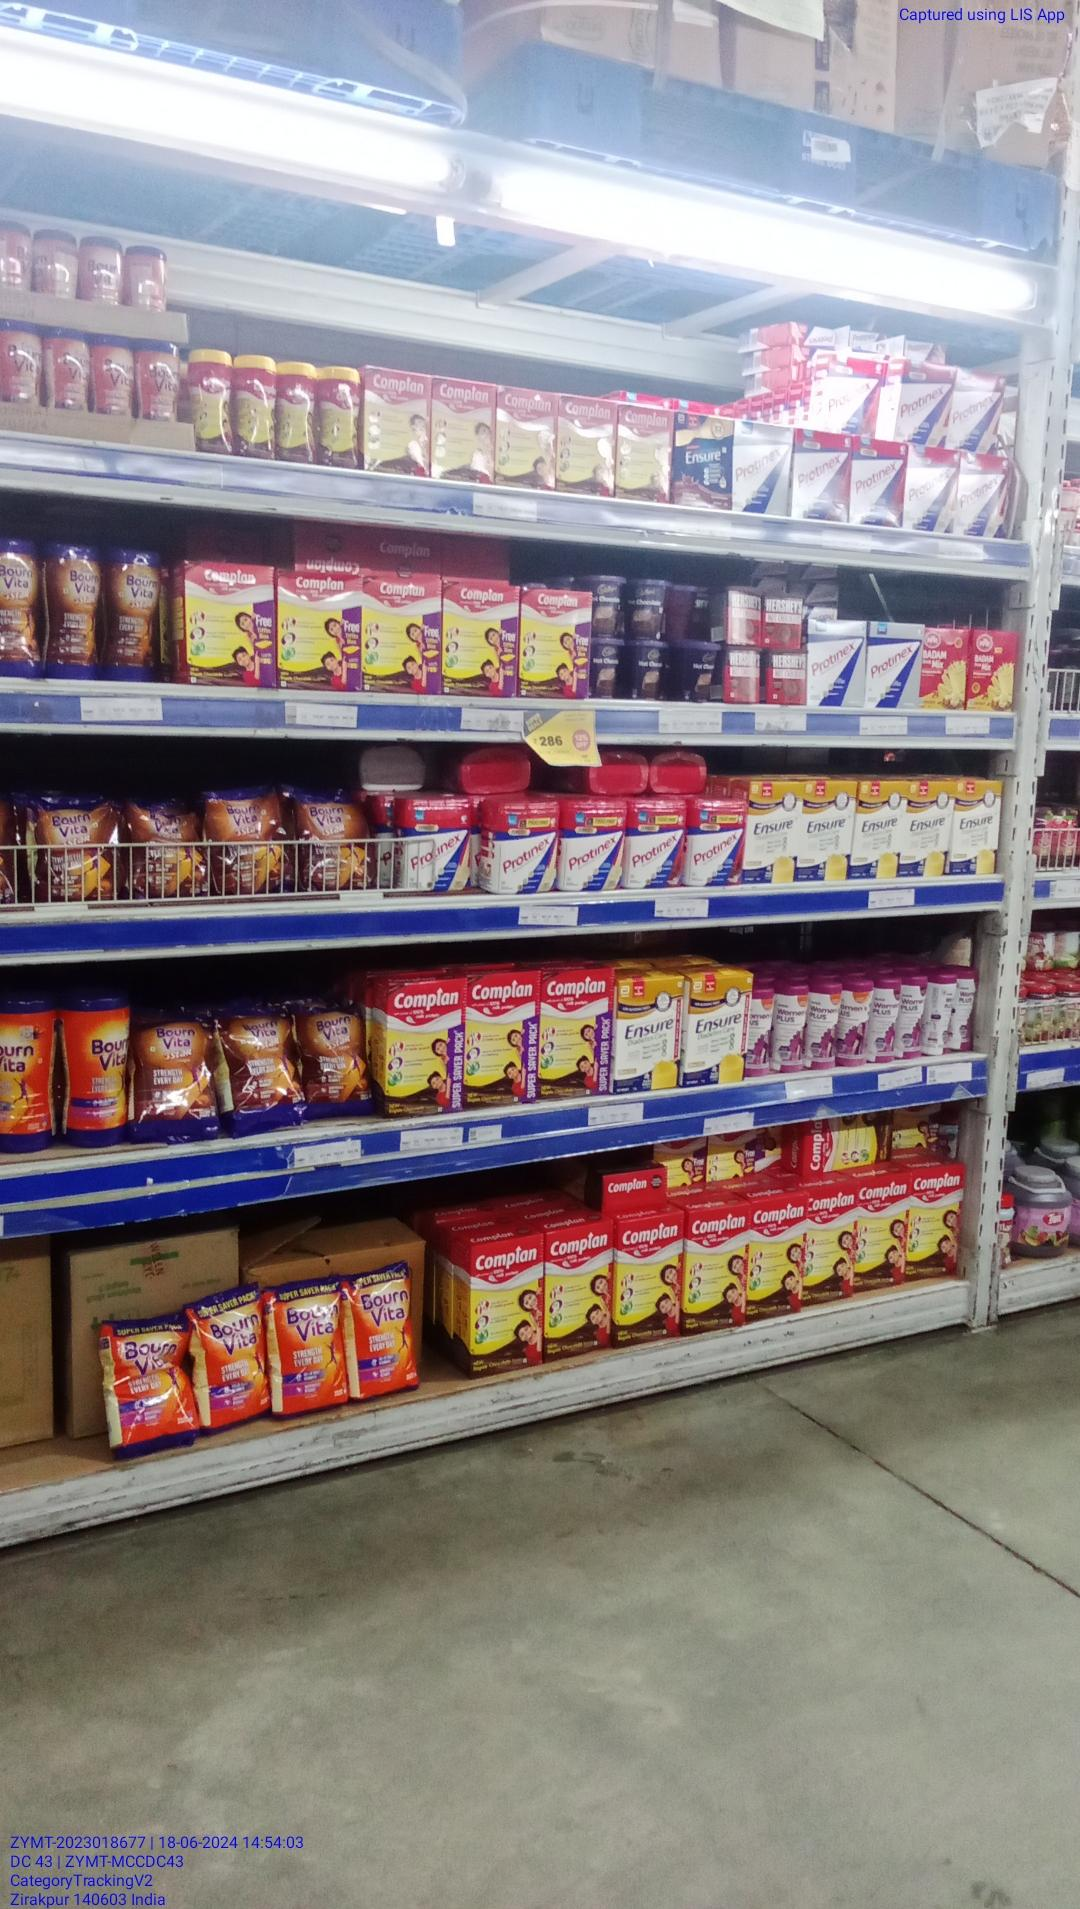BOURN_VITA_1_KG_JAR: (59, 987, 127, 1149), (3, 995, 55, 1155)
BOURN_VITA_1_KG_POUCH: (105, 1312, 190, 1459), (198, 1284, 270, 1433), (277, 1278, 349, 1411), (351, 1267, 415, 1403)
BOURN_VITA_FIVE_STAR_MAGIC_500_G_JAR: (43, 543, 102, 680), (105, 547, 164, 680), (0, 536, 38, 678)
BOURN_VITA_FIVE_STAR_MAGIC_500_G_POUCH: (208, 789, 291, 894), (38, 797, 118, 901), (127, 798, 204, 899), (296, 789, 372, 888)
BOURN_VITA_FIVE_STAR_MAGIC_750_G_POUCH: (135, 1007, 218, 1142), (223, 1003, 304, 1129), (307, 999, 372, 1118)
COMPLAN_CHOCOLATE_1_KG_PACK: (389, 978, 463, 1116), (467, 970, 537, 1105), (540, 969, 615, 1096)
COMPLAN_CHOCOLATE_500_GMS_PACK: (186, 564, 279, 688), (469, 1235, 544, 1375), (364, 573, 443, 692), (282, 570, 362, 687), (617, 1214, 687, 1348), (545, 1222, 612, 1350), (446, 582, 518, 695), (522, 590, 590, 696), (364, 371, 430, 480), (692, 1205, 747, 1329), (748, 1198, 805, 1319), (433, 379, 494, 484), (497, 388, 557, 488), (558, 397, 615, 496), (807, 1188, 856, 1301), (857, 1177, 907, 1286), (911, 1166, 959, 1277), (616, 409, 670, 502)
ENSURE_VANILLA_400_G_PACK: (746, 783, 800, 884), (801, 780, 855, 880), (856, 780, 903, 882), (904, 781, 952, 876), (954, 780, 997, 876)
PROTINEX_VANILLA_400_G_JAR: (405, 800, 469, 897), (494, 804, 558, 894), (564, 802, 624, 892), (628, 802, 689, 889), (693, 801, 742, 884)
